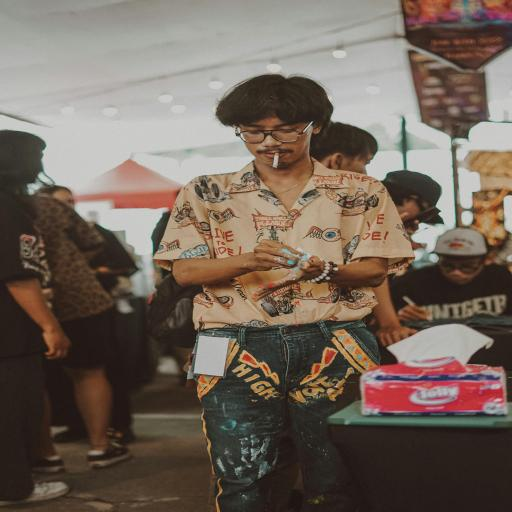merokok: (238, 118, 316, 190)
